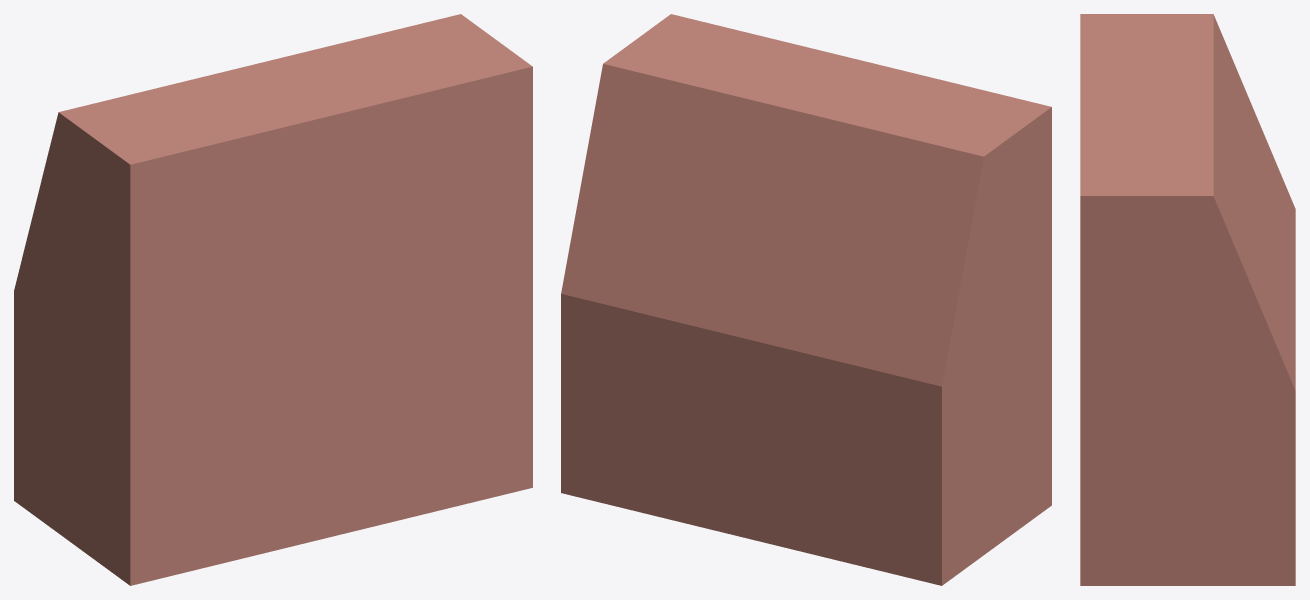
The model's file is BasicCubeAngled_10x5x10.fbx.
3 renders of one model, left to right at view 1: azimuth 30°, elevation 25°; view 2: azimuth 150°, elevation 25°; view 3: azimuth 270°, elevation 25°, orthographic. The views are drawn at different scales.
Visible parts, largest first — view 1: BasicCubeAngled10x5.002; view 2: BasicCubeAngled10x5.002; view 3: BasicCubeAngled10x5.002.
Part boxes in pixels (bbox=[...]): BasicCubeAngled10x5.002: bbox=[14, 14, 532, 585]; BasicCubeAngled10x5.002: bbox=[561, 14, 1051, 585]; BasicCubeAngled10x5.002: bbox=[1080, 14, 1295, 585].
Size of the model in its own units: 1000 by 1000 by 500.
